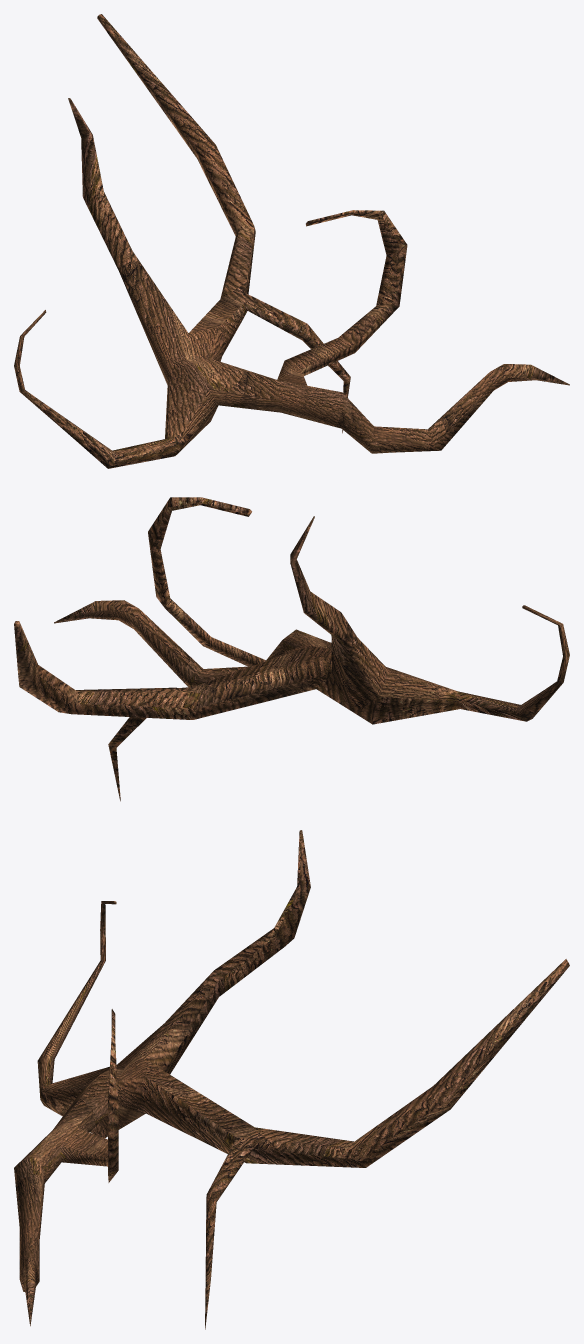
The model's file is Twigs.fbx.
3 renders of one model, top to bottom at view 1: azimuth 30°, elevation 25°; view 2: azimuth 150°, elevation 25°; view 3: azimuth 270°, elevation 25°, orthographic. The views are drawn at different scales.
Parts seen in each view (by area): view 1: Cube.001; view 2: Cube.001; view 3: Cube.001.
Boxes of the visible parts, x1=… form: Cube.001: x1=14, y1=14, x2=569, y2=468; Cube.001: x1=14, y1=497, x2=569, y2=801; Cube.001: x1=14, y1=830, x2=569, y2=1329.
Size of the model in its own units: 54130 by 35556 by 46994.
